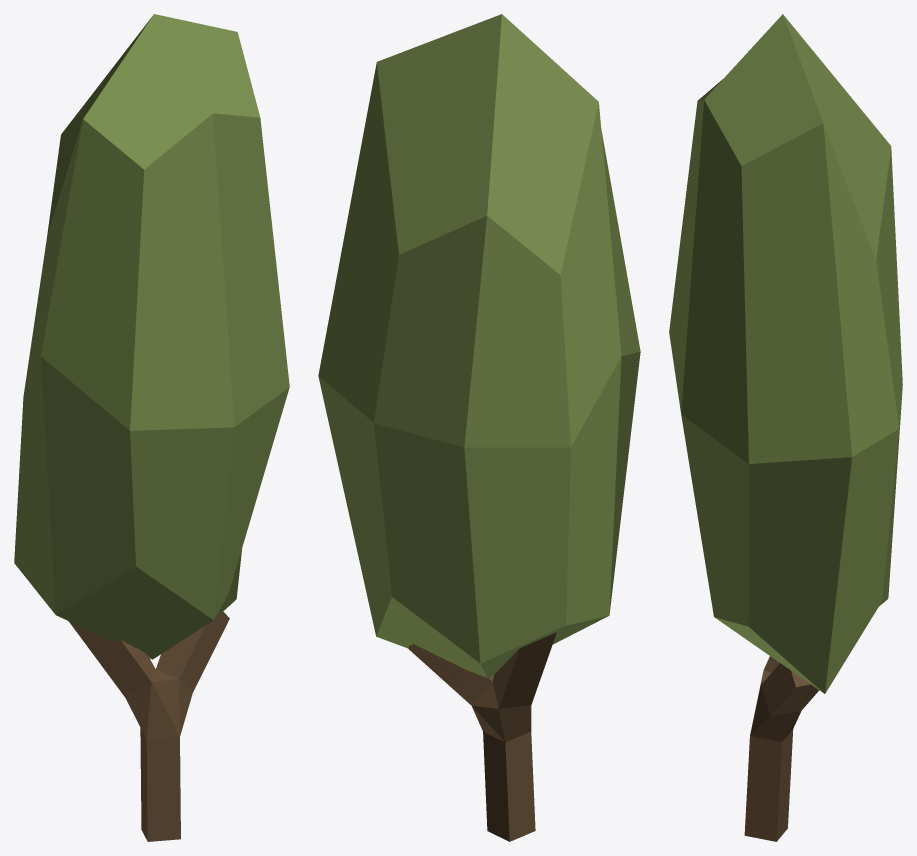
File: moyen_cedre.fbx
The picture shows the model from 3 angles, left to right: view 1: azimuth 30°, elevation 25°; view 2: azimuth 150°, elevation 25°; view 3: azimuth 270°, elevation 25°; orthographic projection.
Visible parts, largest first — view 1: Plan.008; view 2: Plan.008; view 3: Plan.008.
Part boxes in pixels (x1,y1,x2,y2): Plan.008: (14, 14, 289, 841); Plan.008: (318, 14, 640, 841); Plan.008: (669, 14, 902, 841).
Size of the model in its own units: 562 by 1664 by 430.
